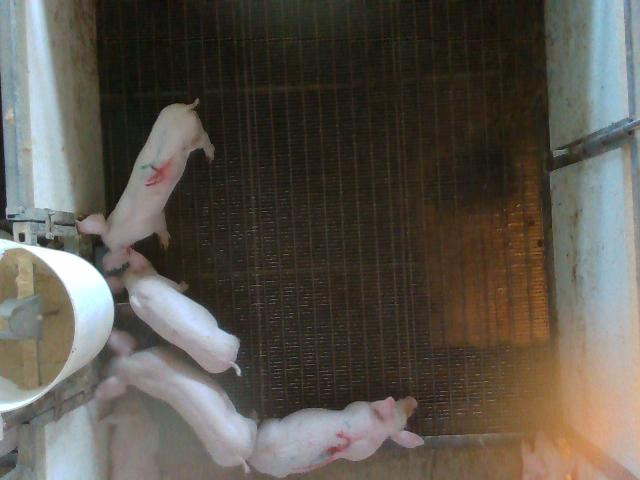pig-3: (249, 396, 423, 477)
pig-4: (78, 99, 215, 271)
